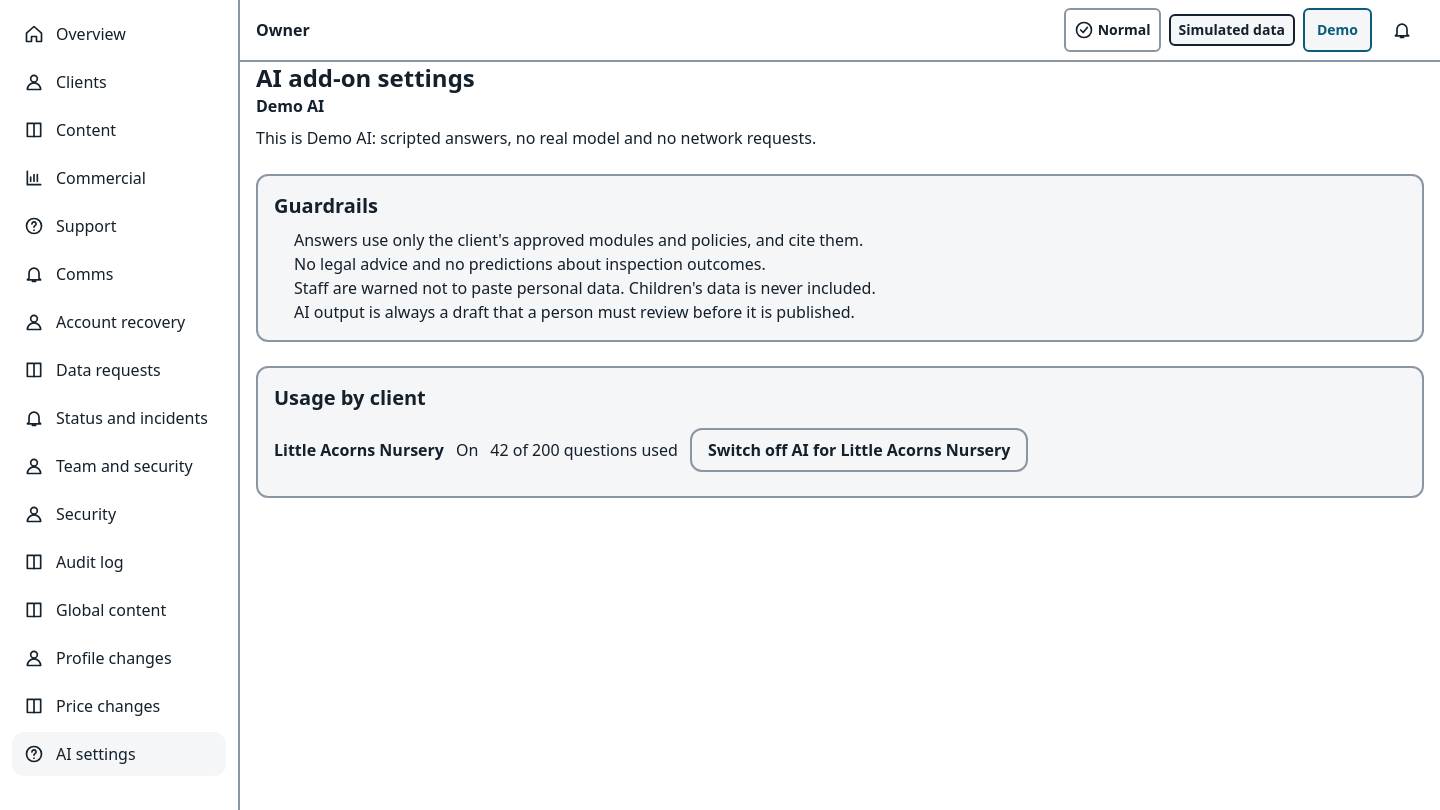
Test: P22 AI add-on settings › switches AI off for a client: shows it, persists it and writes an audit event with the client
expect the heading "AI add-on settings" is shown: met, box [256,62,475,94]
expect the list item with test id "ai-client-row" is shown: met, box [274,428,1028,472]
Click the button "Switch off AI for Little Acorns Nursery" at (859,450), box [690,428,1028,472]
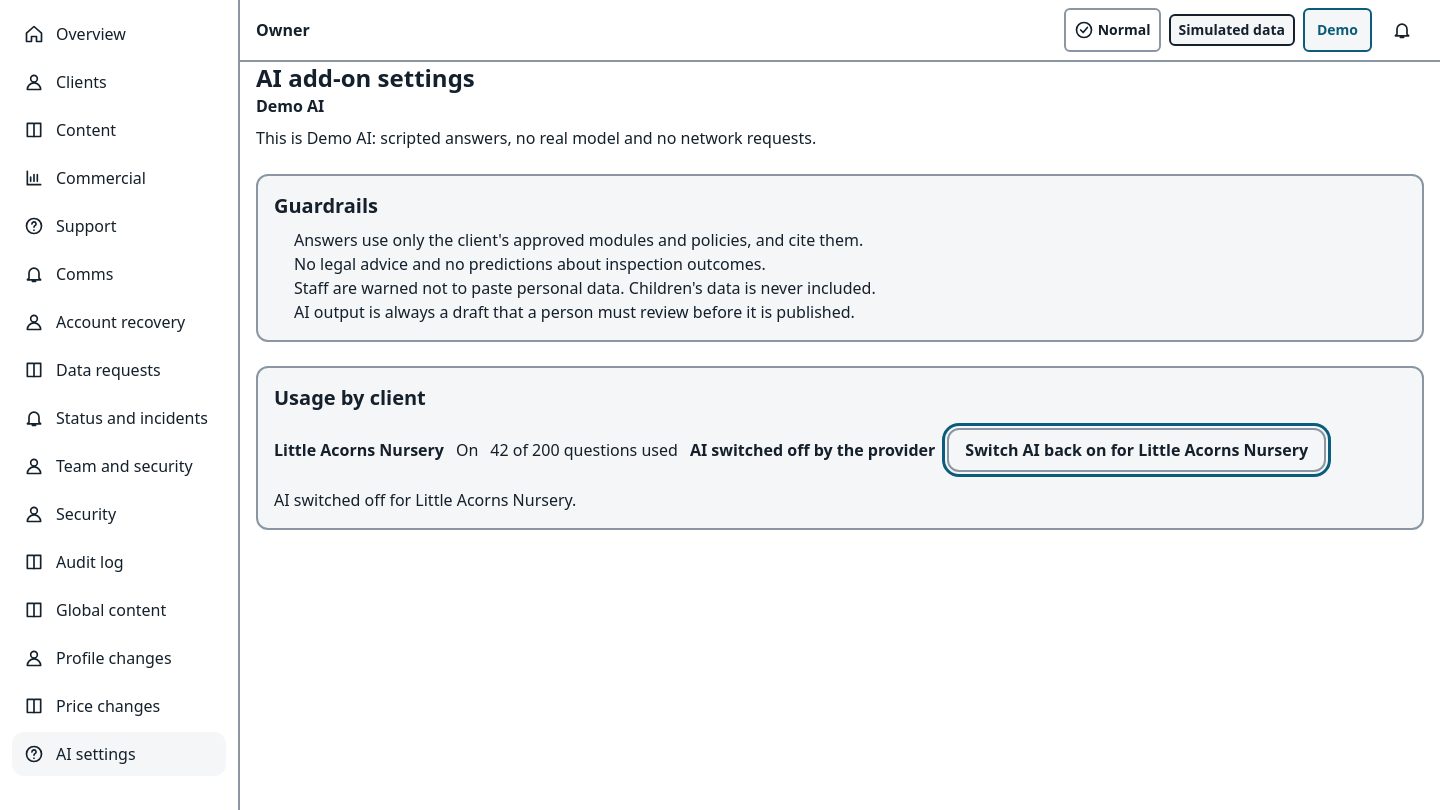
expect the list item with test id "ai-client-row" is shown: met, box [274,420,1406,480]
expect the list item with test id "ai-client-row" shows "AI switched off by the provider": met, box [690,439,935,461]
